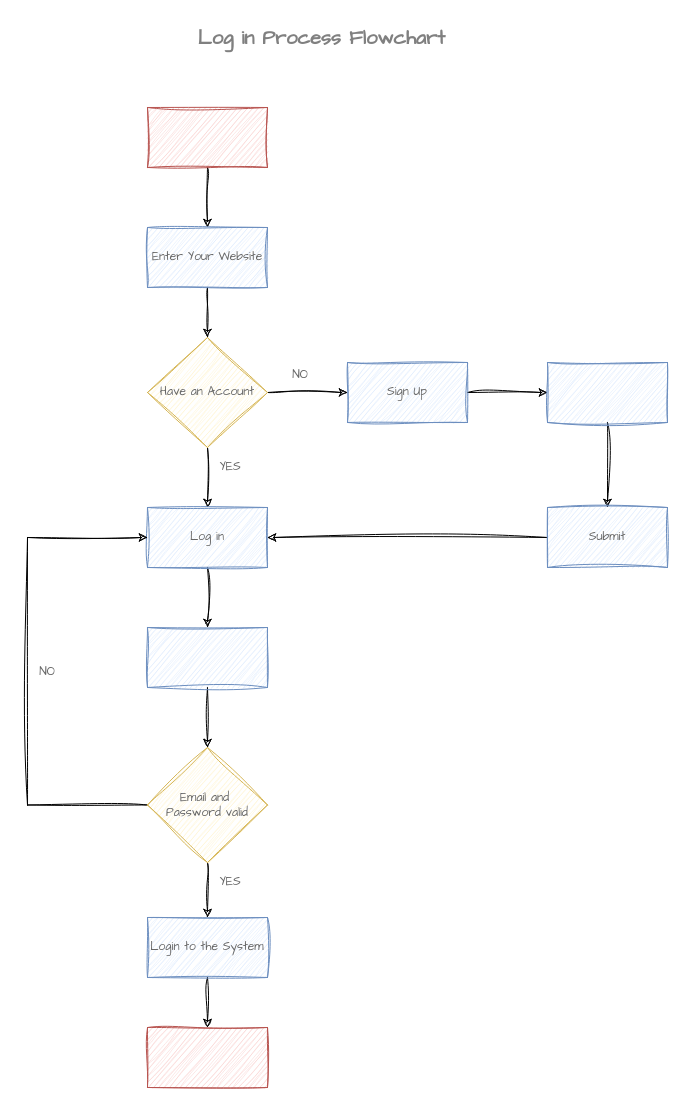
Image size: 685x1105. Some labels were removed from this diagram. The shapes that lost their labels are listed below. From the top down, each one's centre as x and y in pixels, then its label:
At point (207, 137): "Start".
At point (607, 392): "Fill out the information".
At point (207, 657): "Enter Email and Password".
At point (207, 1057): "End".
